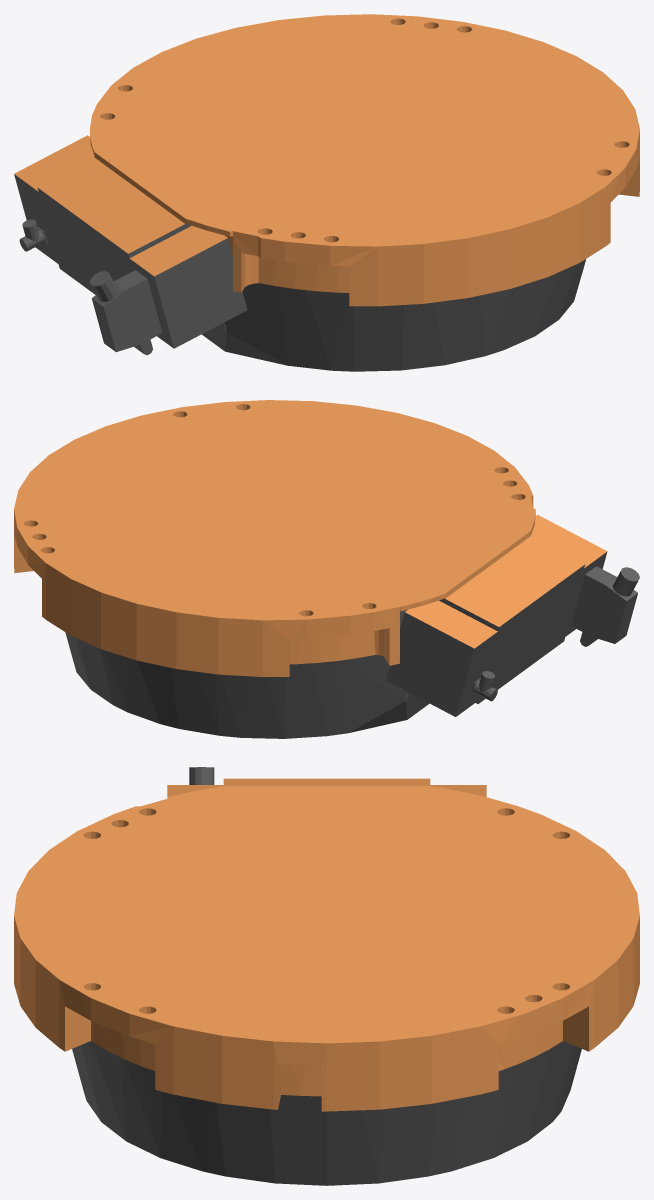
3 views of the same model, one above another, from view 1: azimuth 30°, elevation 25°; view 2: azimuth 150°, elevation 25°; view 3: azimuth 270°, elevation 25° (orthographic). The views are drawn at different scales.
Visible parts, largest first — view 1: entity_8, entity_5, entity_6, entity_9, entity_3, entity_2; view 2: entity_8, entity_5, entity_6, entity_9, entity_3, entity_2; view 3: entity_8, entity_5.
Part boxes in pixels (x1,y1,x2,y2): entity_8: (38, 14, 639, 306); entity_5: (14, 174, 586, 371); entity_6: (91, 270, 162, 355); entity_9: (14, 135, 94, 191); entity_3: (90, 271, 118, 301); entity_2: (19, 219, 47, 251); entity_8: (14, 400, 607, 676); entity_5: (65, 551, 607, 738); entity_6: (571, 566, 637, 646); entity_9: (405, 600, 497, 648); entity_3: (613, 567, 639, 596); entity_2: (471, 671, 497, 701); entity_8: (14, 778, 639, 1111); entity_5: (72, 1041, 581, 1185).
Size of the model in its own units: 46.82 by 13.03 by 39.35.
